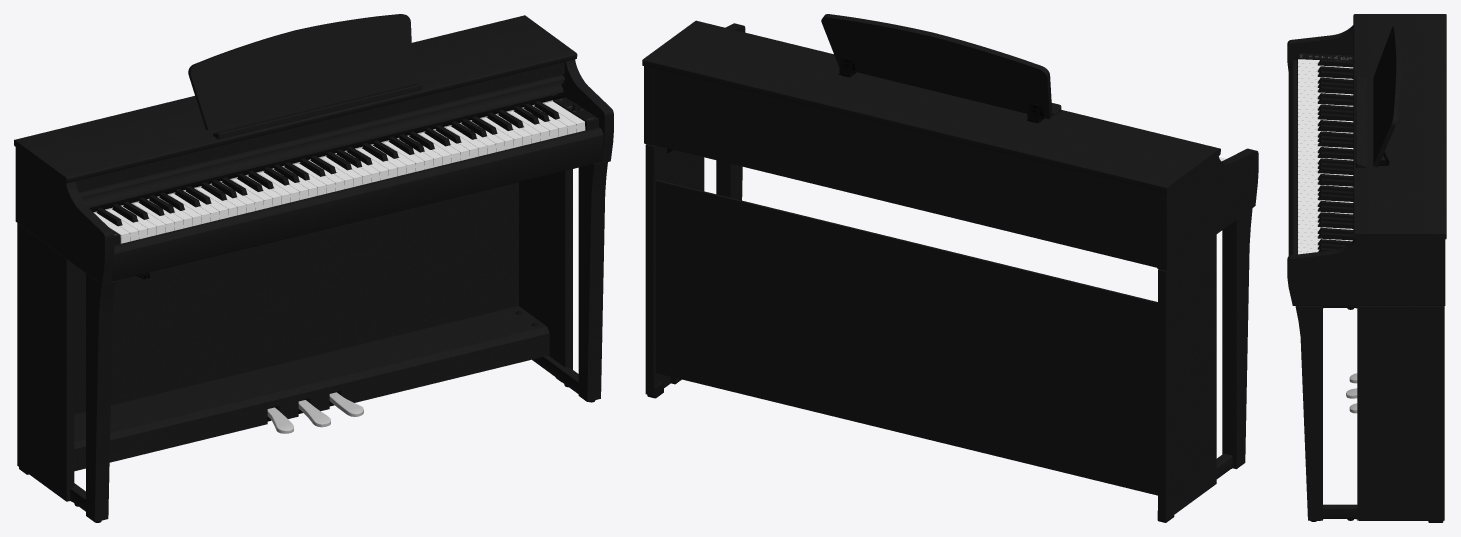
The model's file is clp.glb.
The picture shows the model from 3 angles, left to right: view 1: azimuth 30°, elevation 25°; view 2: azimuth 150°, elevation 25°; view 3: azimuth 270°, elevation 25°; orthographic projection. The views are drawn at different scales.
Parts seen in each view (by area): view 1: RearPanel_low, PedalBox_low, Side_Board_R_low, TopBoard_low, FrontRail_low, MusicRest_low, FrontLeg_R_low, WH_key_low, Arm_R_low, BL_key_low, FrontPanel_low, SASH_low (+5 smaller); view 2: RearPanel_low, BackTopRail_low, TopBoard_low, Side_Board_R_low, MusicRest_low, Arm_R_low, FrontLeg_R_low; view 3: Side_Board_R_low, TopBoard_low, Arm_R_low, BL_key_low, WH_key_low, FrontLeg_R_low, MusicRest_low, FrontRail_low, MusicStand_low, FrontLeg_Stay_low, Keyblock_L_low, Pedals_low.
Part boxes in pixels (x1,y1,x2,y2): RearPanel_low: [74, 182, 518, 414]; PedalBox_low: [74, 306, 549, 471]; Side_Board_R_low: [17, 169, 572, 501]; TopBoard_low: [14, 15, 577, 183]; FrontRail_low: [111, 127, 603, 281]; MusicRest_low: [188, 14, 413, 130]; FrontLeg_R_low: [86, 162, 607, 522]; WH_key_low: [94, 101, 585, 243]; Arm_R_low: [15, 59, 613, 285]; BL_key_low: [96, 101, 559, 226]; FrontPanel_low: [75, 62, 564, 192]; SASH_low: [82, 81, 563, 207]; RearPanel_low: [655, 180, 1157, 495]; BackTopRail_low: [653, 68, 1157, 267]; TopBoard_low: [642, 20, 1220, 193]; Side_Board_R_low: [645, 144, 1216, 520]; MusicRest_low: [821, 14, 1052, 119]; Arm_R_low: [644, 23, 1258, 270]; FrontLeg_R_low: [716, 160, 1252, 469]; Side_Board_R_low: [1357, 306, 1444, 520]; TopBoard_low: [1353, 14, 1446, 239]; Arm_R_low: [1287, 25, 1445, 305]; BL_key_low: [1318, 59, 1354, 251]; WH_key_low: [1298, 59, 1353, 254]; FrontLeg_R_low: [1295, 306, 1322, 520]; MusicRest_low: [1373, 26, 1400, 167]; FrontRail_low: [1288, 60, 1296, 255]; MusicStand_low: [1355, 75, 1367, 167]; FrontLeg_Stay_low: [1323, 306, 1357, 518]; Keyblock_L_low: [1297, 53, 1353, 69]; Pedals_low: [1346, 373, 1357, 413].
Bounding box in the file's own units: 1.35 × 1 × 0.4124.
Materials: 1 (1 with a texture image).
